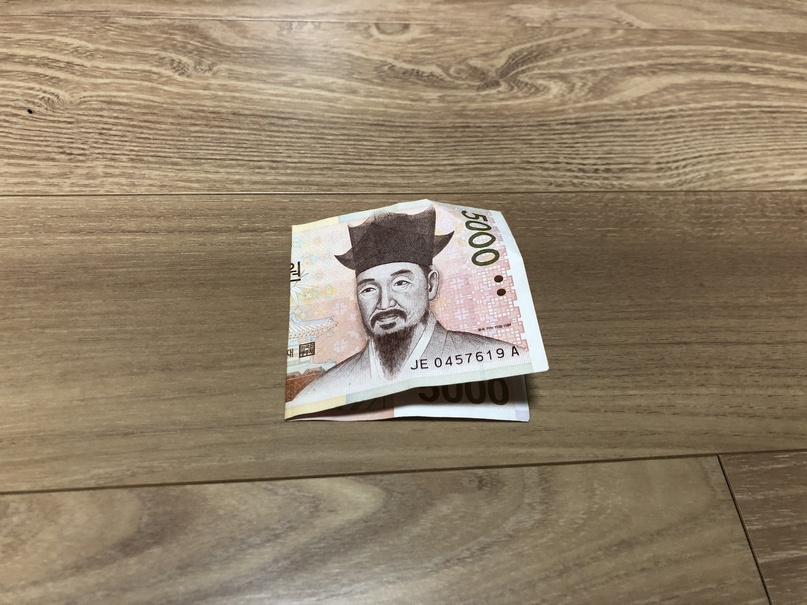5000won: (284, 198, 552, 423)
